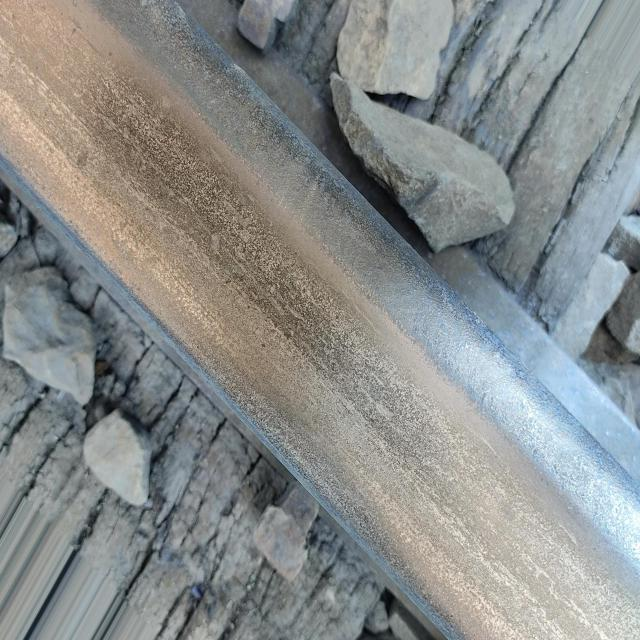broken_rail_medium: (74, 146, 89, 170), (209, 232, 220, 259)
